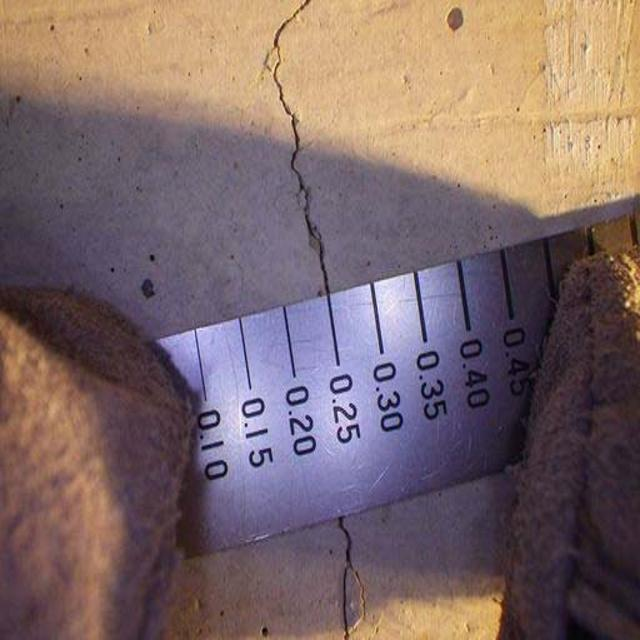crack: (250, 4, 360, 303), (317, 513, 374, 640)
